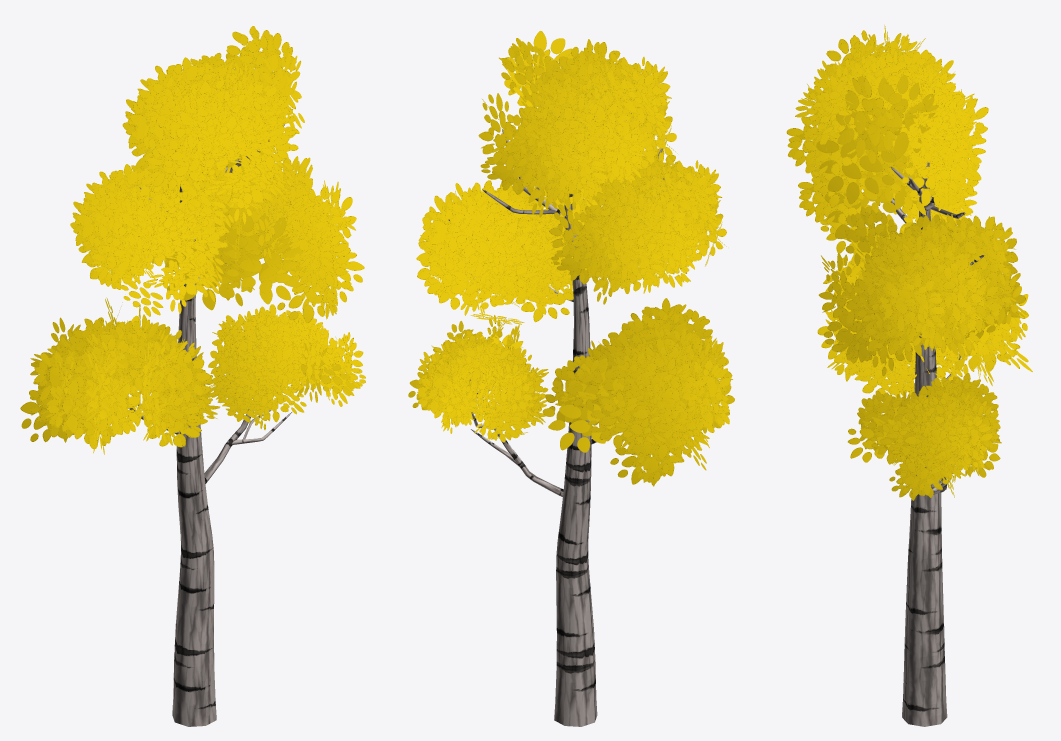
Rendered from BirchTree_1.glb.
3 views of the same model, side by side, from view 1: azimuth 30°, elevation 25°; view 2: azimuth 150°, elevation 25°; view 3: azimuth 270°, elevation 25° (orthographic). The views are drawn at different scales.
Visible parts, largest first — view 1: BirchTree_1; view 2: BirchTree_1; view 3: BirchTree_1.
Boxes of the visible parts, x1=… form: BirchTree_1: x1=20, y1=26, x2=365, y2=726; BirchTree_1: x1=408, y1=31, x2=734, y2=726; BirchTree_1: x1=786, y1=25, x2=1032, y2=726.
Size of the model in its own units: 2.71 by 5.45 by 1.94.
2 materials, 2 textured.
